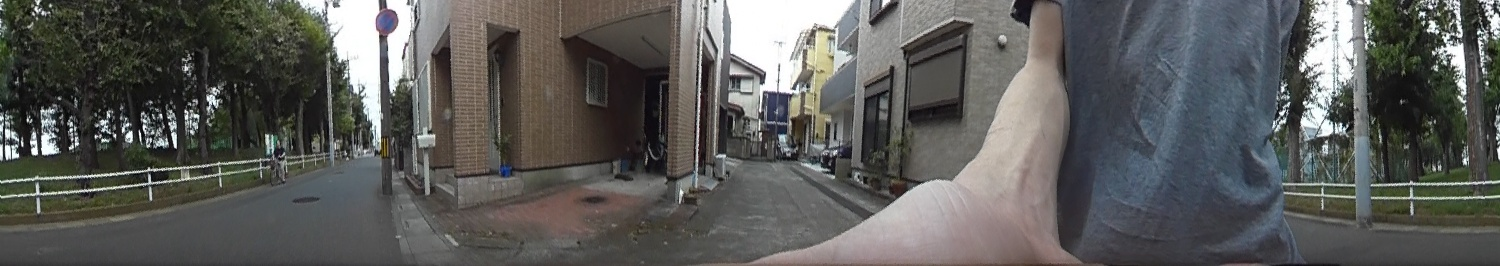difficult_person: (270, 138, 287, 181)
